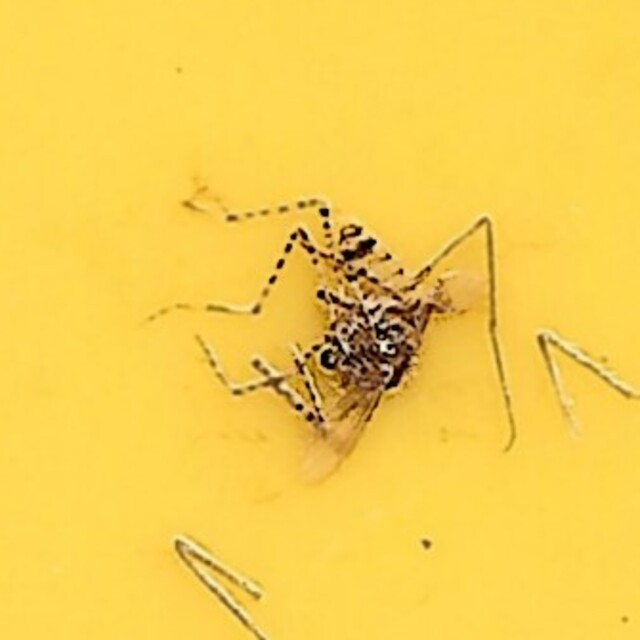Nematocera: (191, 193, 449, 447)
